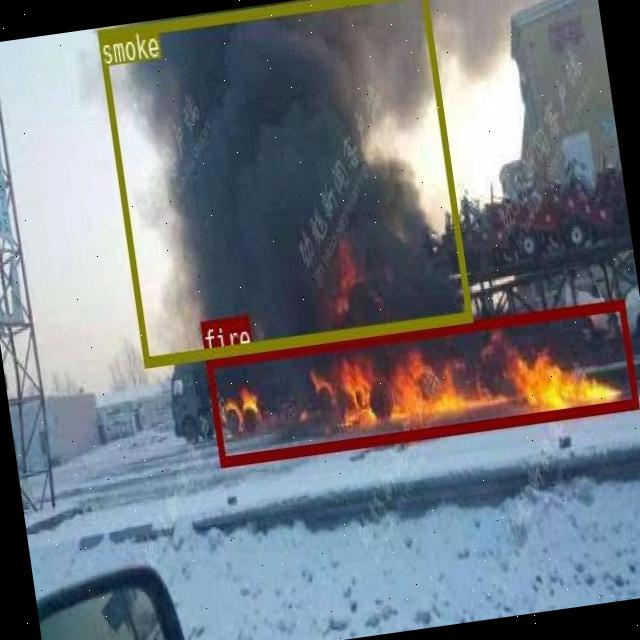fire: (205, 300, 638, 464)
smoke: (97, 0, 472, 367)
